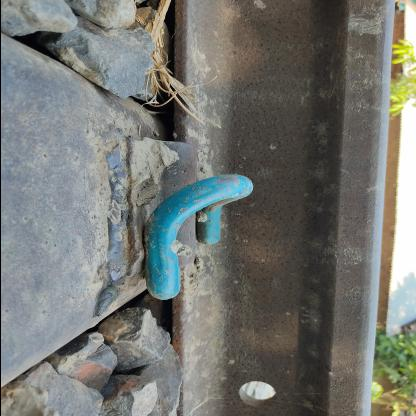Non Defective: (89, 130, 283, 316)
